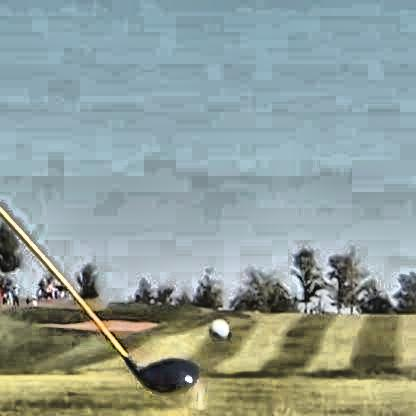golfball: (206, 315, 227, 337)
